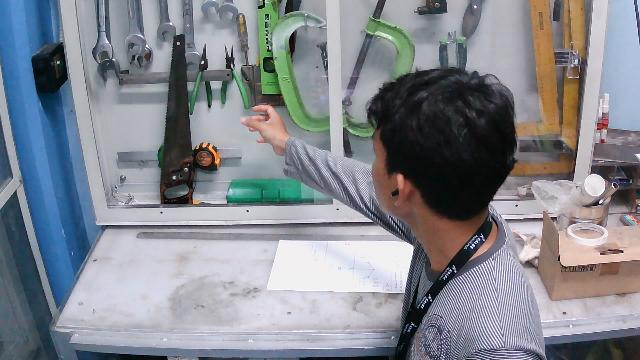tang_cucut_lancip_1: (216, 41, 252, 114)
